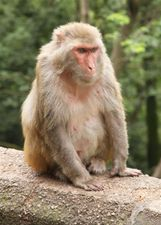monkey: (38, 19, 146, 214)
